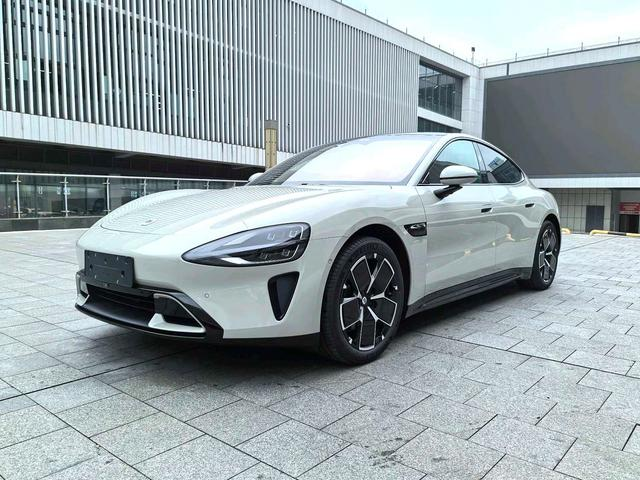su7: (73, 130, 565, 356)
